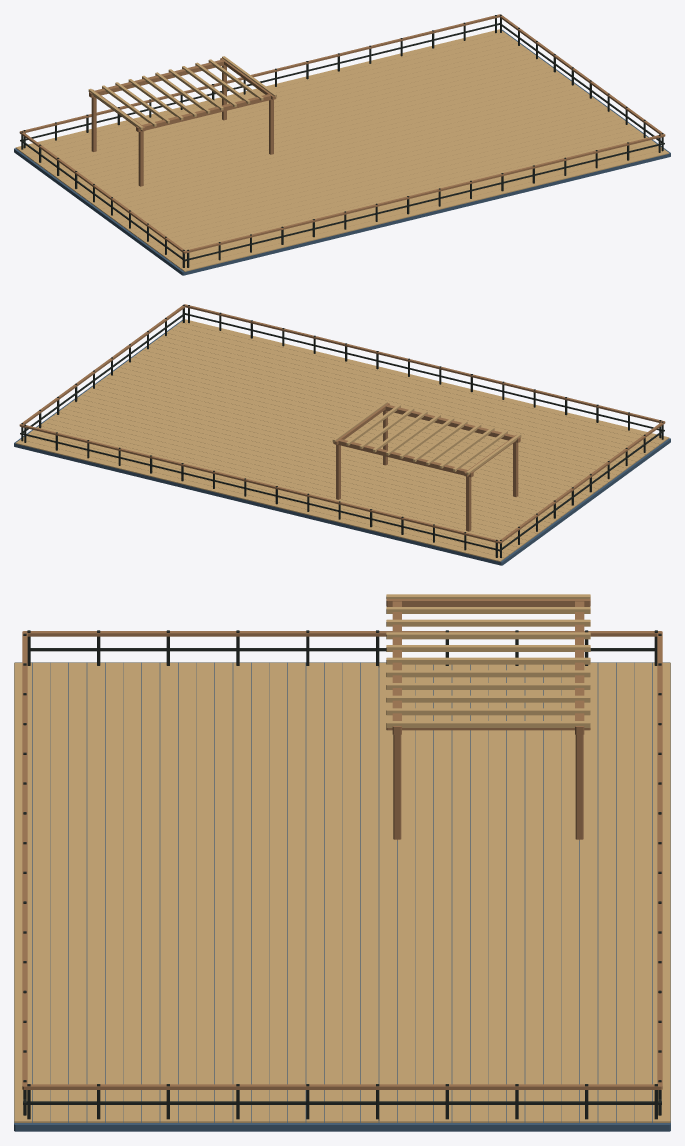
File: gh_roof_terrace_v01.glb
3 renders of one model, top to bottom at view 1: azimuth 30°, elevation 25°; view 2: azimuth 150°, elevation 25°; view 3: azimuth 270°, elevation 25°, orthographic. The views are drawn at different scales.
Visible parts, largest first — view 1: deck, rails, roof, pavilion; view 2: deck, rails, roof, pavilion; view 3: deck, rails, roof, pavilion.
Boxes of the visible parts, x1,y1,x2,y2 form: deck: (14,29,670,275); rails: (19,14,665,267); roof: (88,56,276,131); pavilion: (89,59,276,186); deck: (14,319,670,565); rails: (19,304,665,557); roof: (332,401,521,476); pavilion: (333,404,520,531); deck: (14,662,670,1131); rails: (22,630,662,1120); roof: (386,594,590,730); pavilion: (392,601,584,840).
Bounding box in the file's own units: 30 × 3.8 × 18.
1 material, 1 textured.
